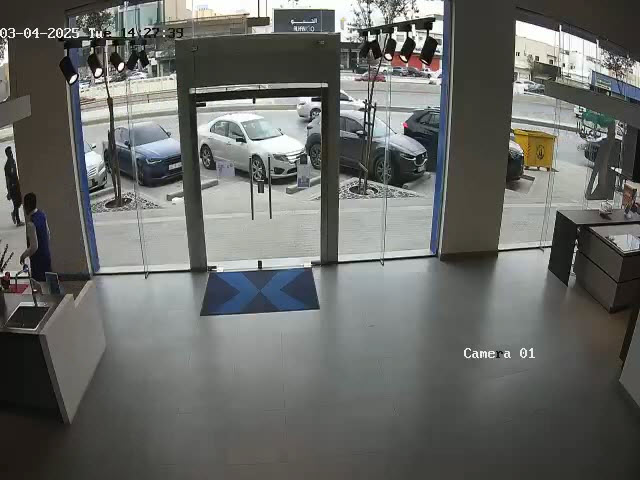employee: (21, 192, 52, 282)
male: (2, 144, 20, 232)
